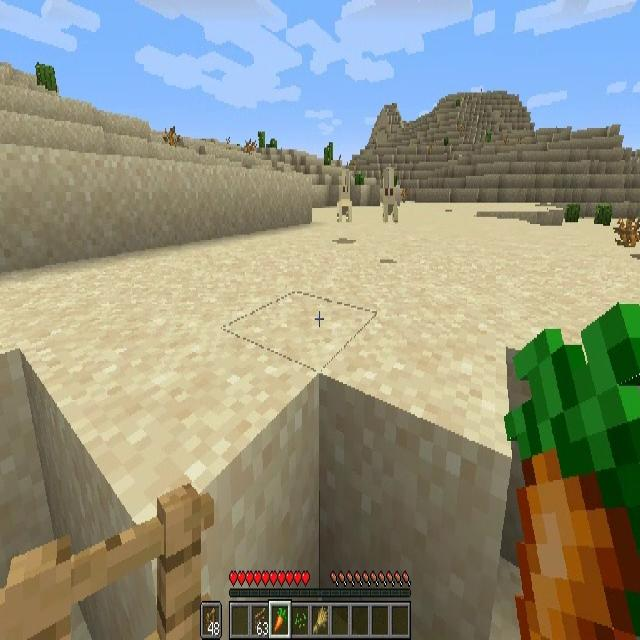rabbit: (380, 169, 400, 227), (337, 176, 353, 224)
